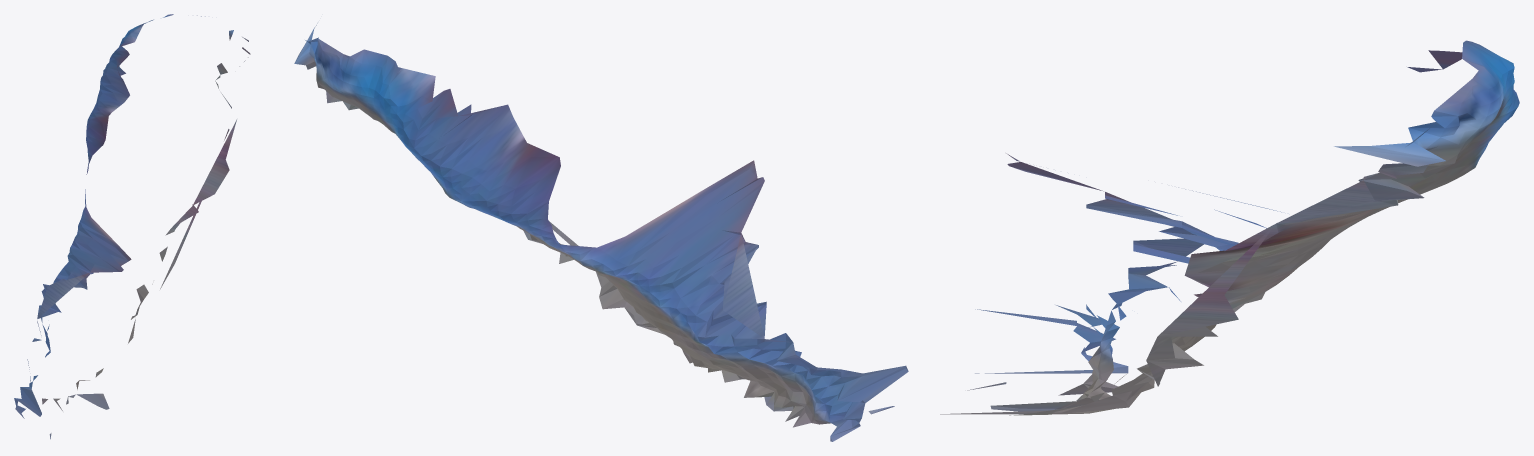
File: observed-surface.glb
The picture shows the model from 3 angles, left to right: view 1: azimuth 30°, elevation 25°; view 2: azimuth 150°, elevation 25°; view 3: azimuth 270°, elevation 25°; orthographic projection. The views are drawn at different scales.
Visible parts, largest first — view 1: geometry_0; view 2: geometry_0; view 3: geometry_0.
Part boxes in pixels (box(x1,y1,x2,y2)): geometry_0: box(14, 14, 250, 439); geometry_0: box(294, 23, 908, 441); geometry_0: box(940, 40, 1519, 415).
Bounding box in the file's own units: 0.3696 × 0.3116 × 0.2955.
1 material, 1 textured.
